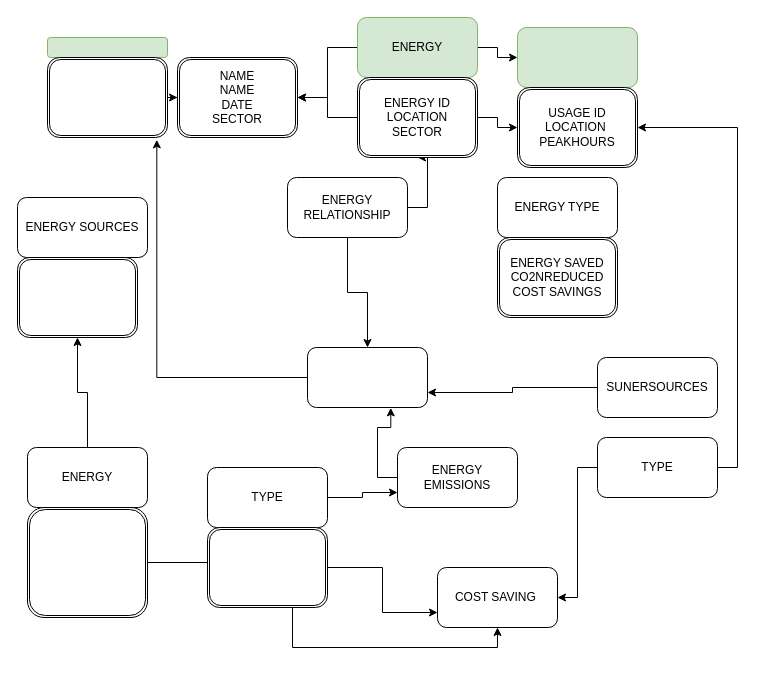
The diagram is 763 pixels wide and 673 high, and some of its shapes have lost their labels. Each missing label, with the centre of its shape:
"CONSUMER ID NAME LOCATION SECTOR" goes at (107,97).
"CONSUMERS" goes at (107,47).
"ENERGY RELACTION" goes at (367,377).
"ENERGY SENERGY SOURCE" goes at (267,567).
"ENERGY USED ENERGY SAVED ENERGY CONSUMED PEAK HOURS" goes at (77,297).
"RATE DATE TOTAL COST" goes at (87,562).
"USAGE" goes at (577,57).
